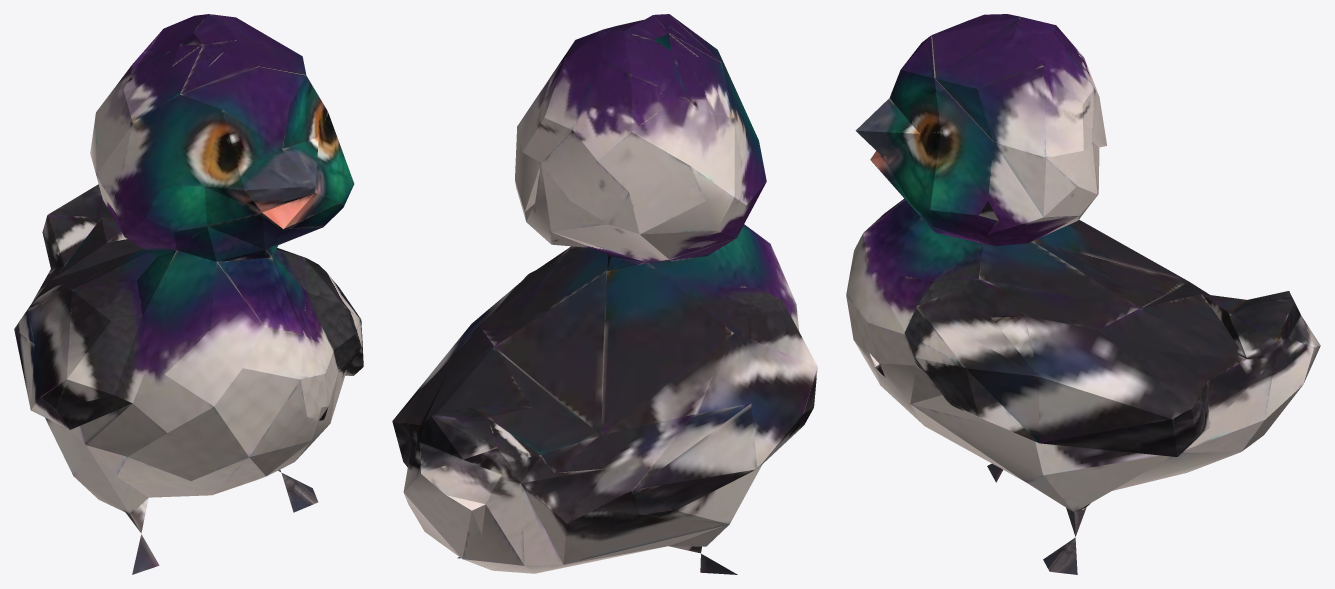
File: duck-bufflehead-lod.glb
The picture shows the model from 3 angles, left to right: view 1: azimuth 30°, elevation 25°; view 2: azimuth 150°, elevation 25°; view 3: azimuth 270°, elevation 25°; orthographic projection. The views are drawn at different scales.
Visible parts, largest first — view 1: output_unwrapped; view 2: output_unwrapped; view 3: output_unwrapped.
Part boxes in pixels (bbox=[...]): output_unwrapped: bbox=[14, 14, 363, 574]; output_unwrapped: bbox=[392, 14, 817, 574]; output_unwrapped: bbox=[846, 14, 1320, 574].
Bounding box in the file's own units: 0.2172 × 0.35 × 0.302.
1 material, 1 textured.
